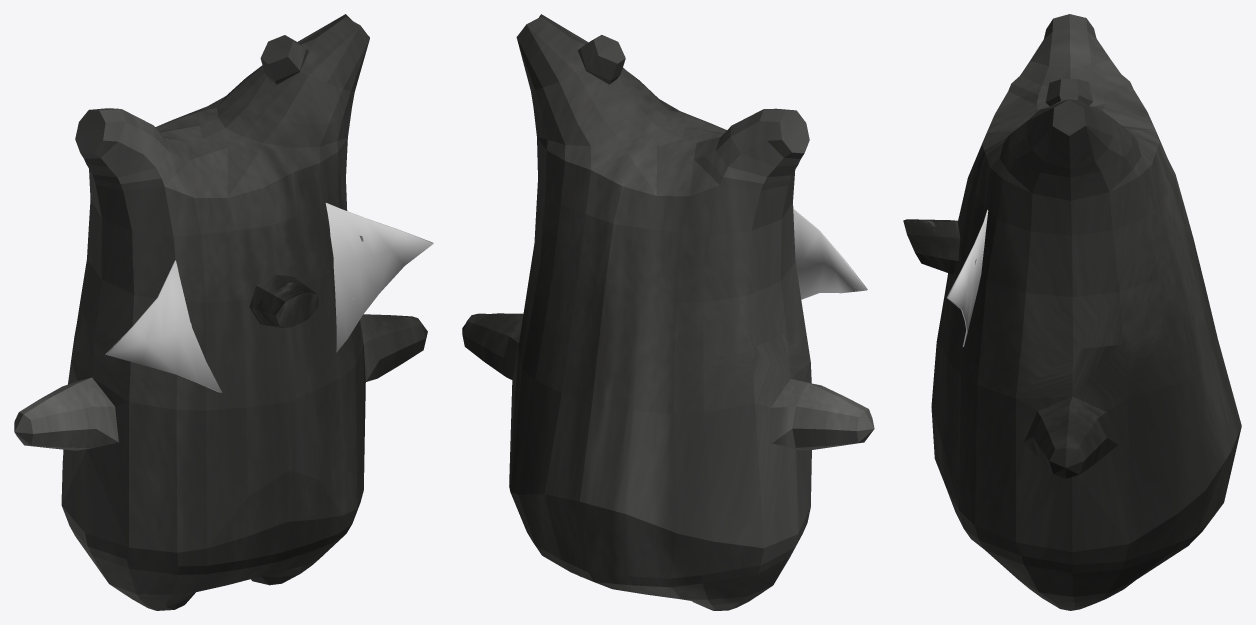
File: frame_0019.obj
3 views of the same model, side by side, from view 1: azimuth 30°, elevation 25°; view 2: azimuth 150°, elevation 25°; view 3: azimuth 270°, elevation 25° (orthographic).
Parts seen in each view (by area): view 1: korok, leaf, nose; view 2: korok, leaf; view 3: korok, nose, leaf.
Boxes of the visible parts, x1,y1,x2,y2 form: korok: (14,14,427,610); leaf: (105,203,433,392); nose: (249,274,319,327); korok: (462,14,874,610); leaf: (793,209,867,299); korok: (931,14,1241,610); nose: (903,219,960,274); leaf: (946,209,988,346).
Bounding box in the file's own units: 1.78 × 2.25 × 1.27.
